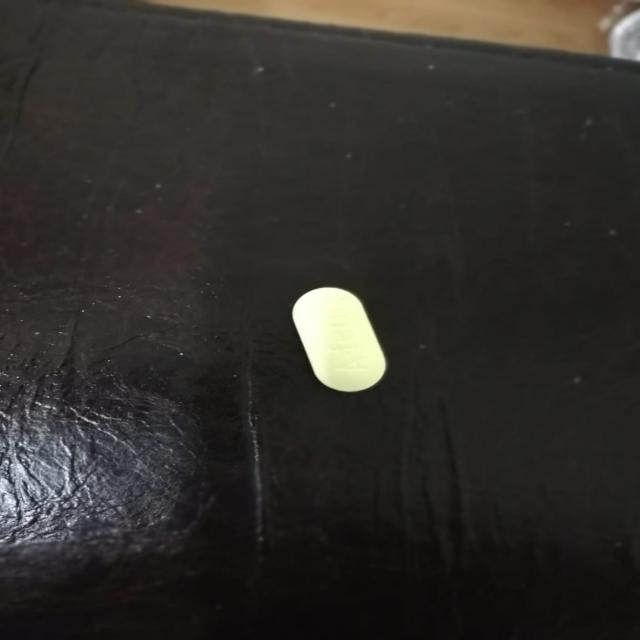pills: (281, 278, 396, 397)
